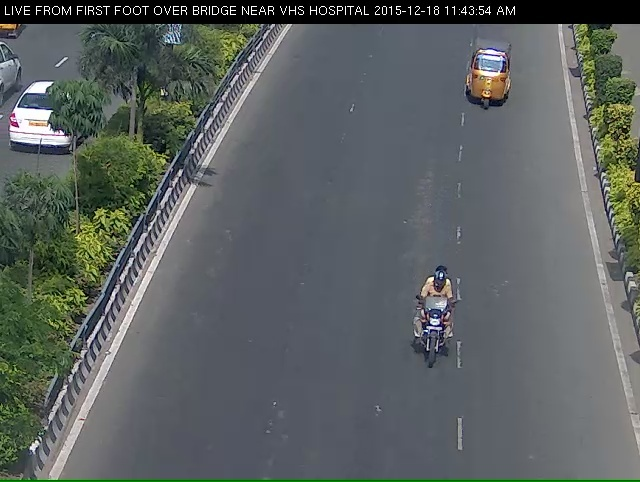Car: (468, 44, 513, 119)
Person: (401, 288, 465, 418)
